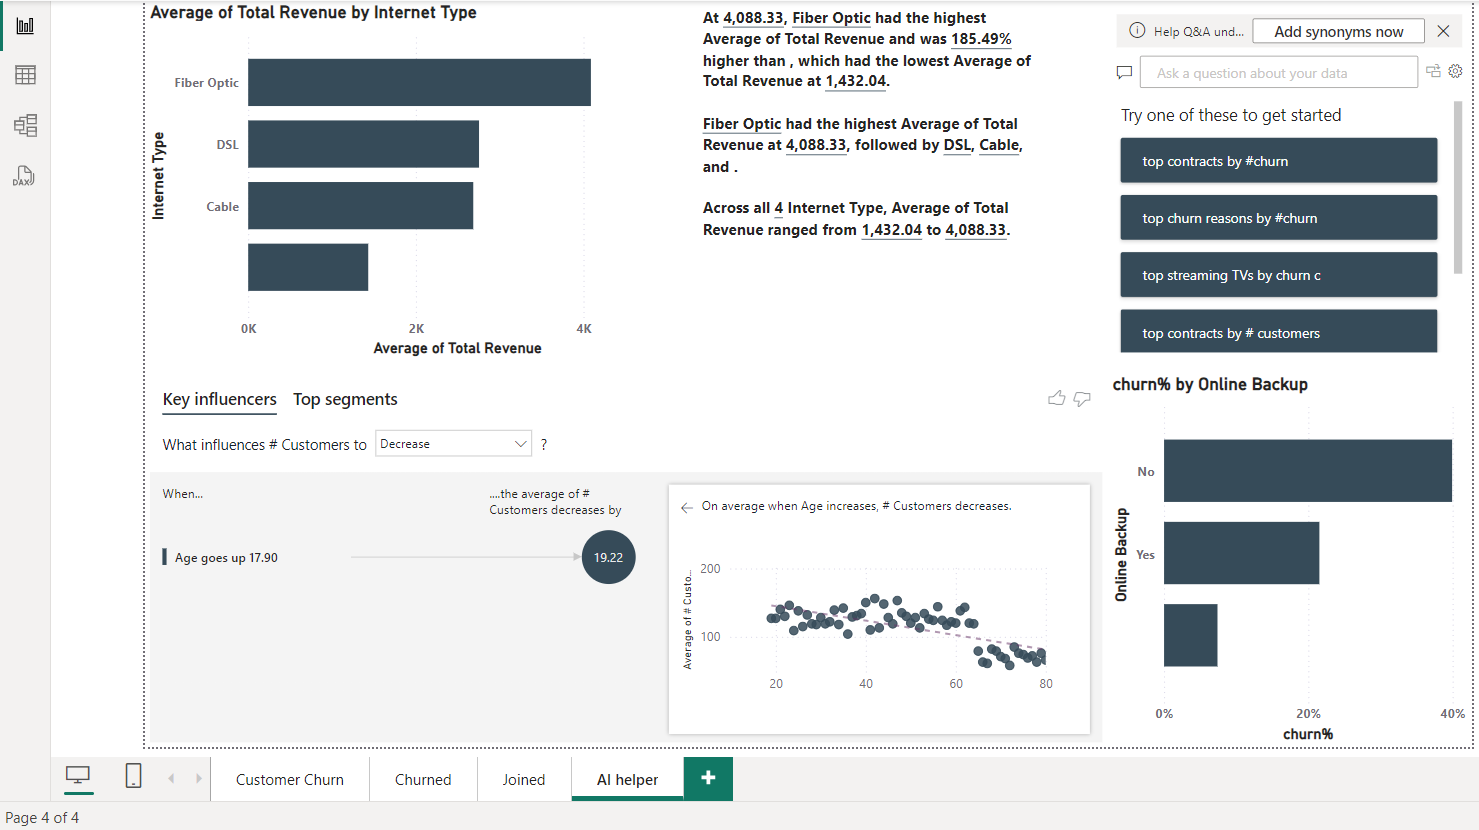

What the dashboard file says about the page in this screenshot:
{"tool":"powerbi","page":{"name":"AI helper","canvas":[1280,720],"ordinal":3},"visuals":[{"type":"clusteredBarChart","fields":{"Category":["telecom_customer_churn.Internet Type"],"Y":["Avg(telecom_customer_churn.Total Revenue)"]},"box":[0,0,517.3,348.5],"z":0},{"type":"textbox","box":[533.8,0,337.6,348.5],"z":1000},{"type":"keyDriversVisual","fields":{"Target":[" measures.# Customer"],"ExplainBy":["telecom_customer_churn.Age"]},"box":[0,359.5,929,360.9],"z":3000},{"type":"clusteredBarChart","fields":{"Category":["telecom_customer_churn.Online Backup"],"Y":[" measures.churn%"]},"box":[929,359.5,351.3,360.9],"z":4000},{"type":"qnaVisual","box":[929,0,351.3,348.5],"z":5000}]}

Visuals, with their boxes on the page's 1280x720 design canvas (x1, y1, x2, y2). These are canvas units, not pixel positions in the 1479x830 screenshot, which may show the page scaled, cropped or inside an application window:
clusteredBarChart - telecom_customer_churn.Internet Type x Avg(telecom_customer_churn.Total Revenue): [0, 0, 517, 348]
textbox: [534, 0, 871, 348]
keyDriversVisual -  measures.# Customer x telecom_customer_churn.Age: [0, 360, 929, 720]
clusteredBarChart - telecom_customer_churn.Online Backup x  measures.churn%: [929, 360, 1280, 720]
qnaVisual: [929, 0, 1280, 348]
